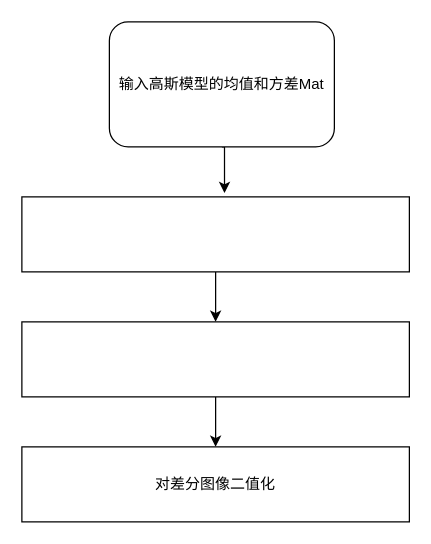
Some shapes in this 431 by 544 pixel diagram are drawn without their labels. Here are the shapes that lost their labels. From the top down, the centre of each, then its label:
the point at 215,234: 将均值Mat和当前帧作差取绝对值
the point at 215,359: weight * var计算得到阈值
